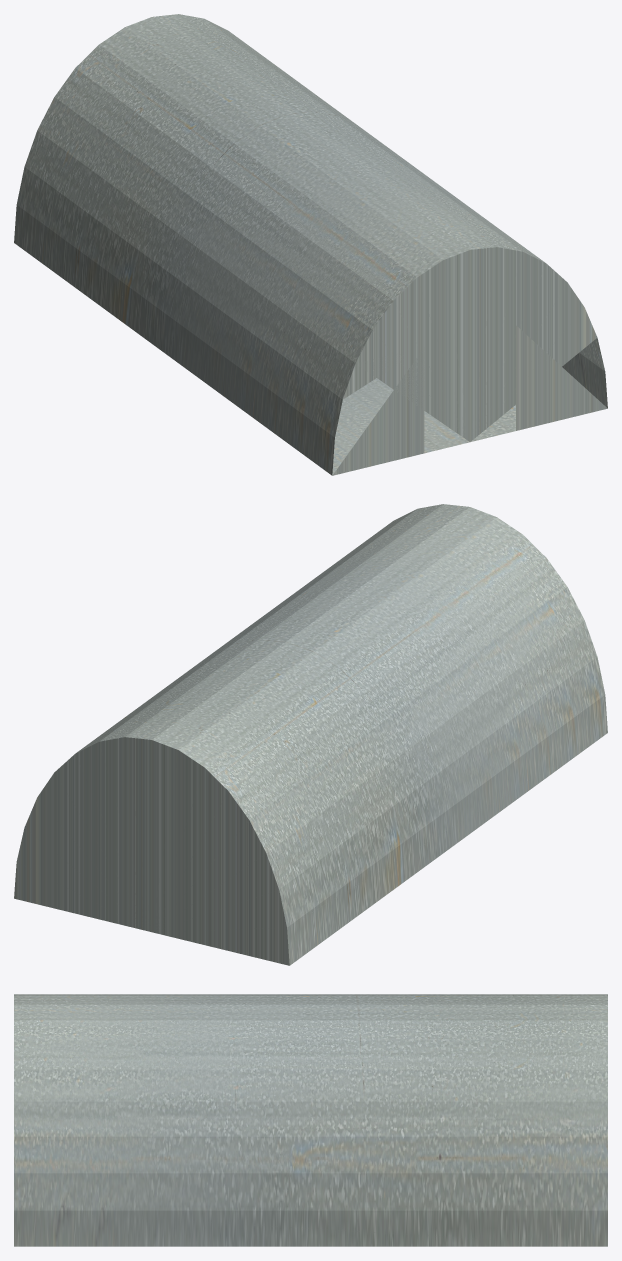
File: quonset_hut.glb
The picture shows the model from 3 angles, top to bottom: view 1: azimuth 30°, elevation 25°; view 2: azimuth 150°, elevation 25°; view 3: azimuth 270°, elevation 25°; orthographic projection. The views are drawn at different scales.
Visible parts, largest first — view 1: QuonsetHut; view 2: QuonsetHut; view 3: QuonsetHut.
Part boxes in pixels (box(x1,y1,x2,y2)): QuonsetHut: box(14, 14, 607, 475); QuonsetHut: box(14, 504, 607, 965); QuonsetHut: box(14, 994, 607, 1246).
Size of the model in its own units: 6 by 4 by 12.
1 material, 1 textured.
